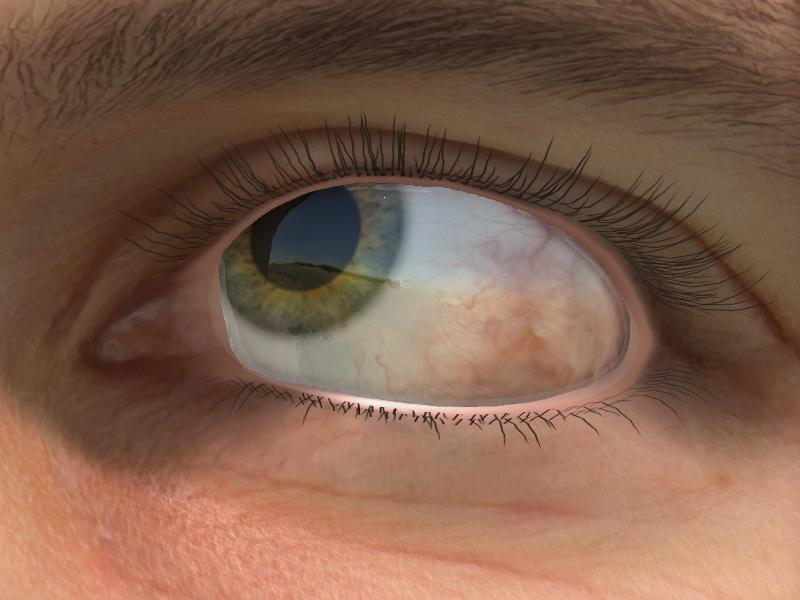eye: (214, 183, 406, 335)
